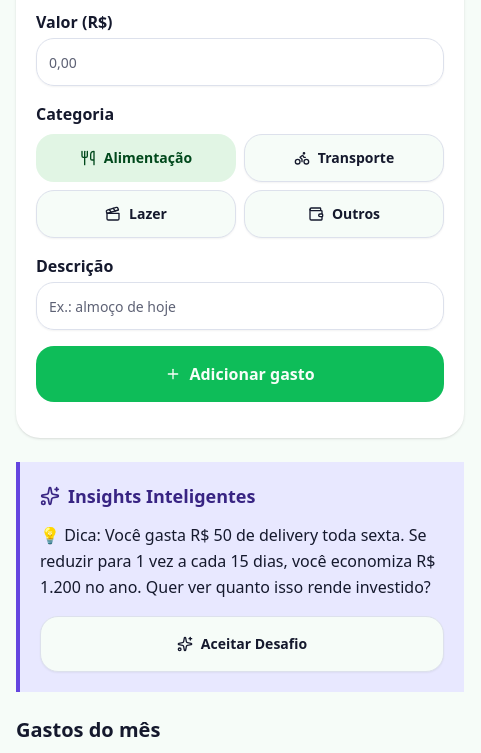
it: Expense tracker › rejects invalid values and accepts the challenge
(page scrolled)
Click the button "Adicionar gasto". click: (240, 374)
box: [36,346,444,402]
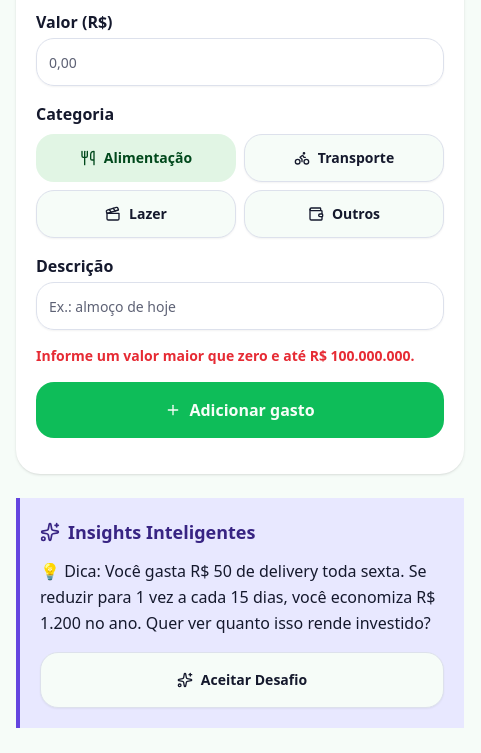
Now the message "Informe um valor maior que zero e até R$ 100.000.000." is shown, box [36,346,444,366]
Click the button "Aceitar Desafio". click: (242, 680)
box: [40,652,444,708]
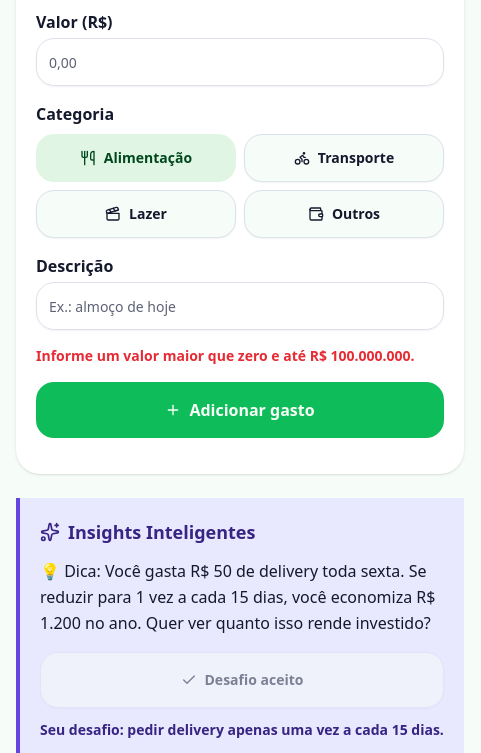
Now the button "Desafio aceito" is disabled, box [40,652,444,708]
